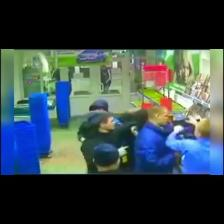person: (81, 111, 135, 173), (135, 106, 175, 173), (166, 119, 209, 174), (94, 144, 121, 173), (89, 99, 108, 112)
